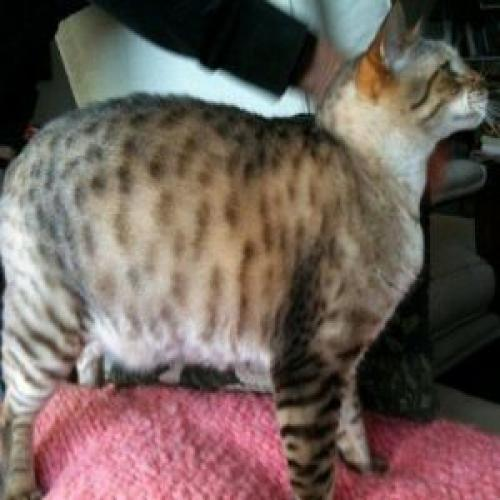cat-face: (347, 1, 500, 153)
